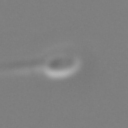normal: (1, 60, 43, 80)
